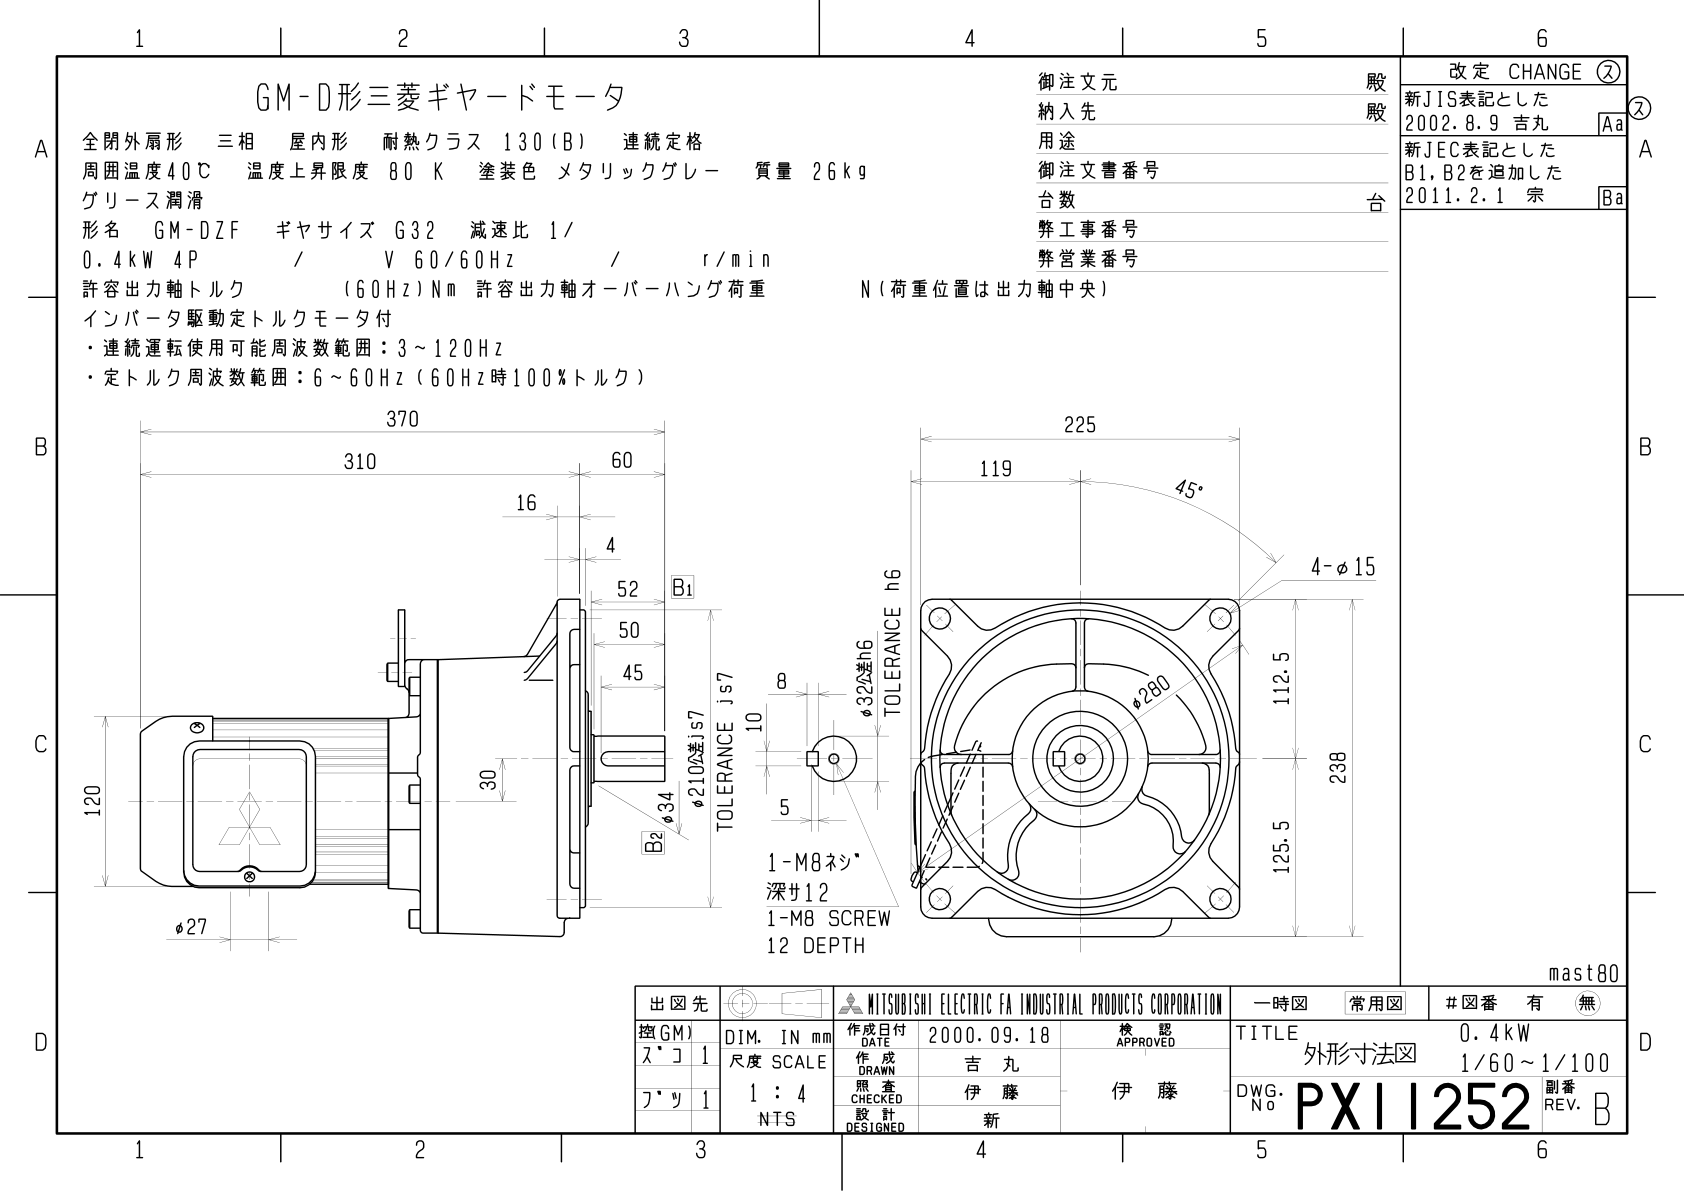GM_D_インバータ屋内_三相_フランジ: (77, 402, 1386, 962)
